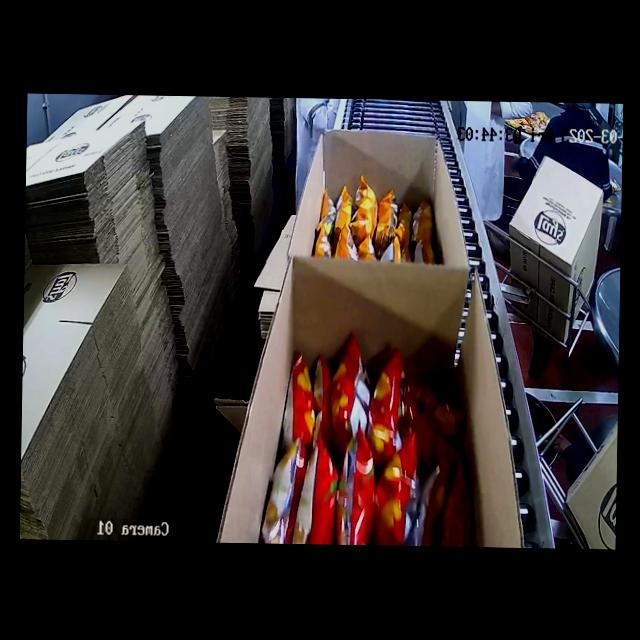cheese: (308, 167, 442, 271)
masala: (281, 358, 462, 546)
